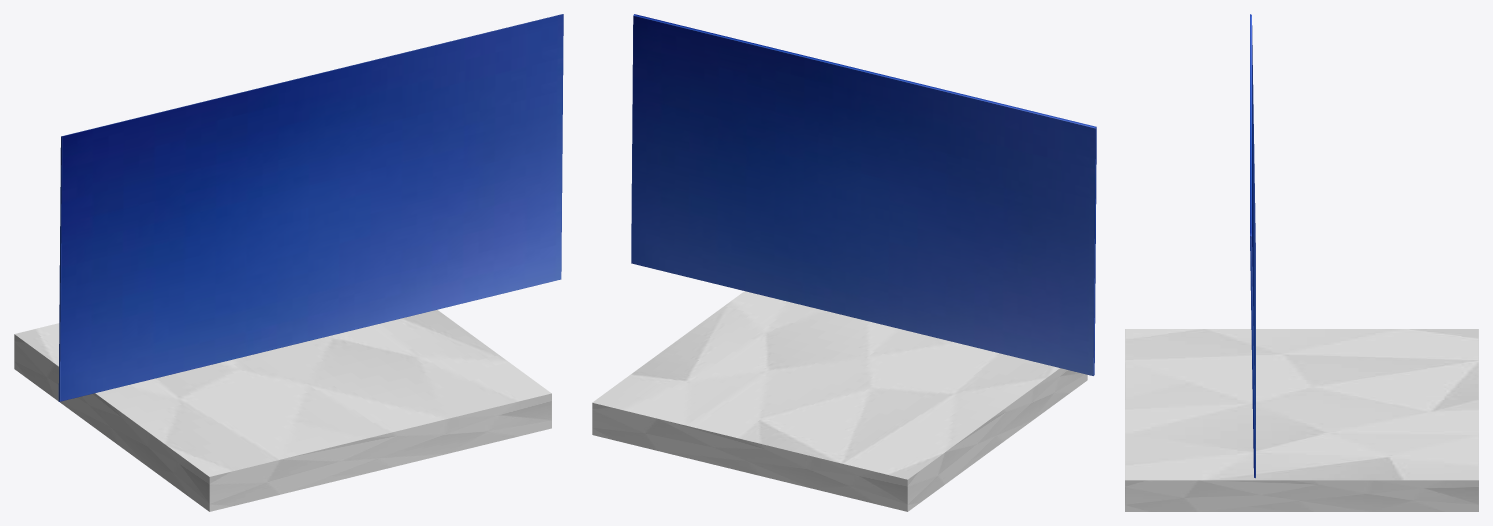
File: RECTANGULO.DAE
The picture shows the model from 3 angles, left to right: view 1: azimuth 30°, elevation 25°; view 2: azimuth 150°, elevation 25°; view 3: azimuth 270°, elevation 25°; orthographic projection. The views are drawn at different scales.
Parts seen in each view (by area): view 1: Box002, Box001; view 2: Box002, Box001; view 3: Box001, Box002.
Part boxes in pixels (<box>): Box002: <box>58,14,563,401</box>; Box001: <box>14,309,551,511</box>; Box002: <box>631,14,1096,375</box>; Box001: <box>592,291,1087,511</box>; Box001: <box>1125,329,1478,511</box>; Box002: <box>1250,14,1255,478</box>.
Size of the model in its own units: 203 by 137 by 133.
2 materials, 2 textured.
